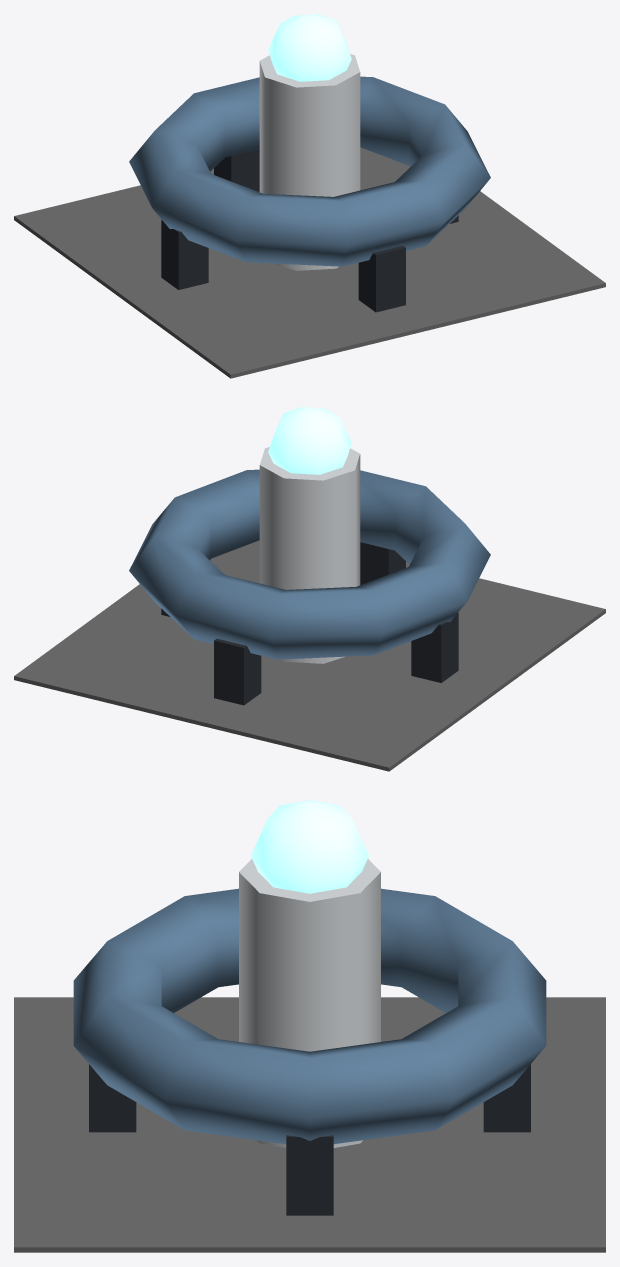
File: bld_special_power_plant_a09_lod1.glb
3 renders of one model, top to bottom at view 1: azimuth 30°, elevation 25°; view 2: azimuth 150°, elevation 25°; view 3: azimuth 270°, elevation 25°, orthographic. The views are drawn at different scales.
Visible parts, largest first — view 1: body; view 2: body; view 3: body.
Part boxes in pixels (x1,y1,x2,y2): body: (14,14,605,378); body: (14,407,605,771); body: (14,800,605,1252).
Size of the model in its own units: 15 by 9.1 by 15.
